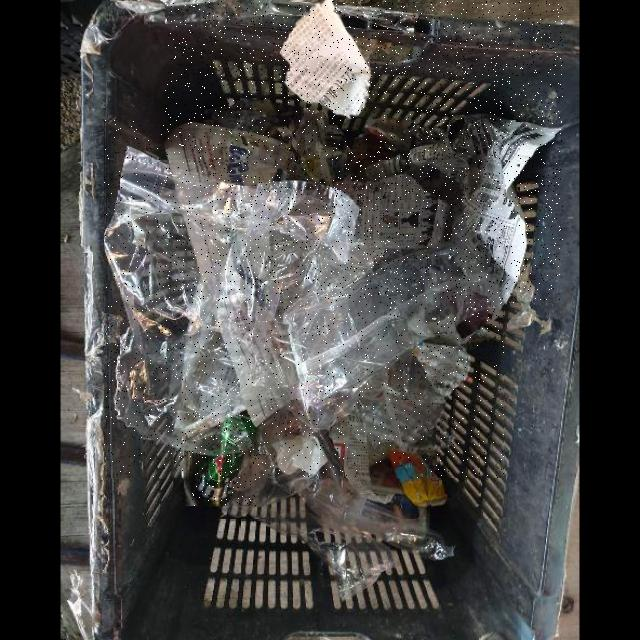metal: (191, 415, 256, 505)
paper: (165, 1, 563, 303)
plastic: (105, 119, 504, 477)
